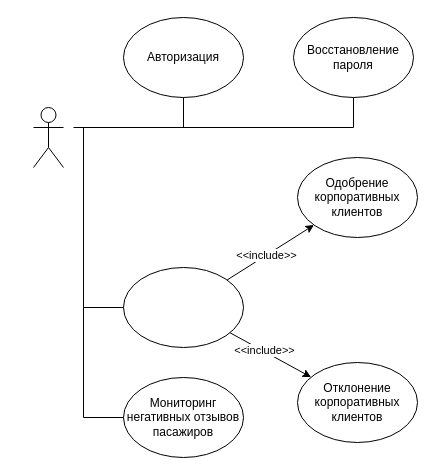
Some shapes in this 435 by 475 pixel diagram are drawn without their labels. The shapes that lost their labels are listed below. From the top down, each one's box as (x1, y1, x2, y2) in pixels, then its label:
(32, 106, 64, 168): Модератор
(122, 266, 244, 348): Модерация корпоративных клиентов
